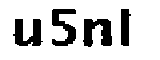5: (47, 5, 79, 48)
l: (117, 5, 137, 54)
n: (82, 14, 114, 50)
u: (9, 13, 44, 50)
